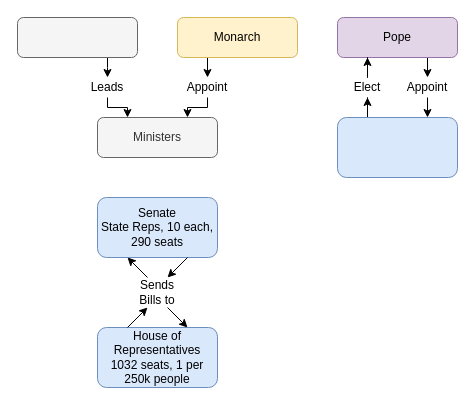
The diagram is 475 pixels wide and 405 high, and some of its shapes have lost their labels. Here are the shapes that lost their labels. From the top down, the box of each, then its label:
(16, 16, 138, 58): President
(336, 116, 458, 178): College of Cardinals All Cardinals, 150 avg.
